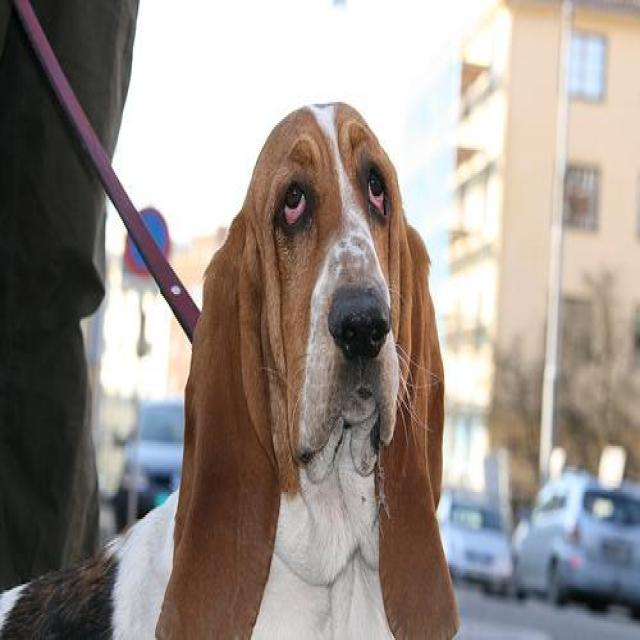basset: (0, 102, 462, 636)
